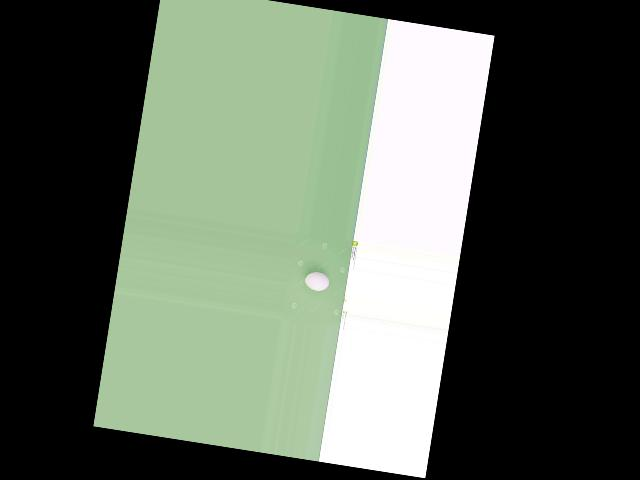egg: (304, 270, 330, 292)
